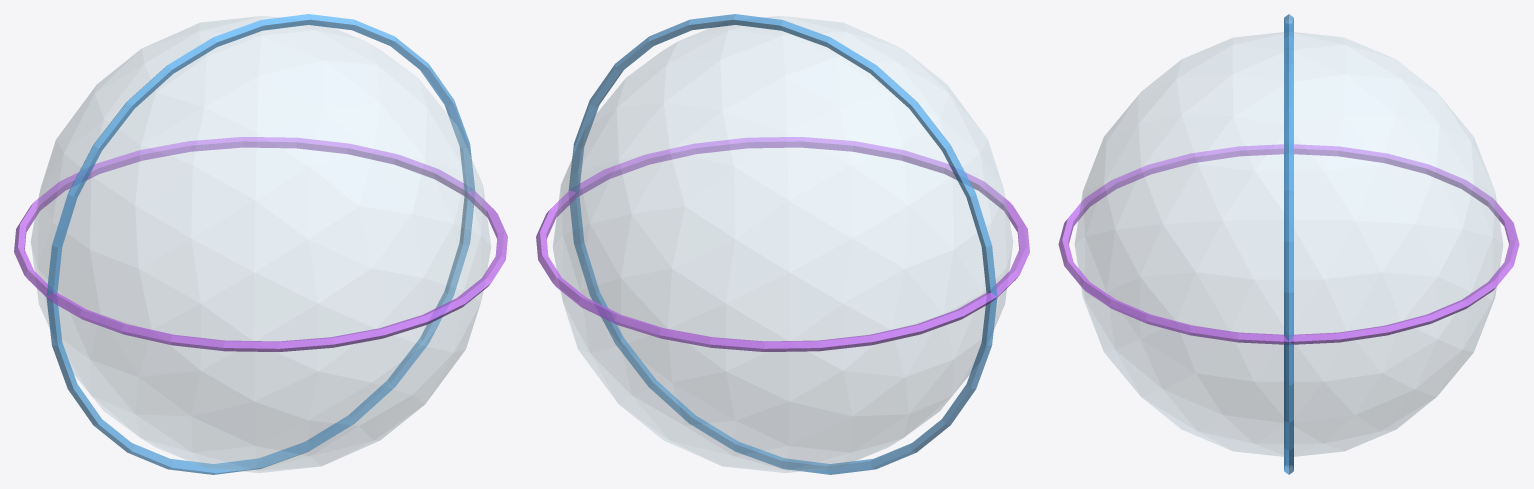
The model's file is vfx_zero_g_field_bubble.glb.
3 renders of one model, left to right at view 1: azimuth 30°, elevation 25°; view 2: azimuth 150°, elevation 25°; view 3: azimuth 270°, elevation 25°, orthographic. The views are drawn at different scales.
Parts seen in each view (by area): view 1: field, equator, vertical; view 2: field, equator, vertical; view 3: field, vertical, equator.
Boxes of the visible parts, x1,y1,x2,y2 form: field: (31,16,490,472); equator: (46,14,475,474); vertical: (14,137,507,351); field: (553,16,1012,472); equator: (568,14,997,474); vertical: (536,137,1029,351); field: (1075,32,1502,456); vertical: (1058,144,1519,344); equator: (1284,14,1293,474).
Bounding box in the file's own units: 2.15 × 2.15 × 2.15.
